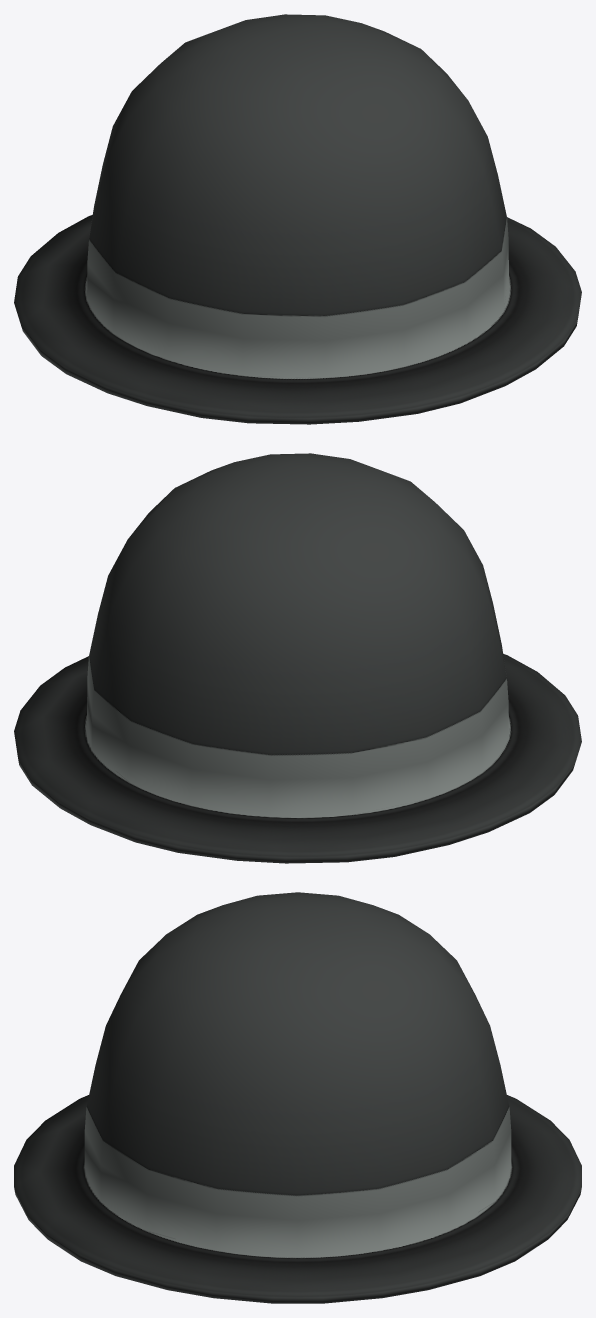
File: Bombin.fbx
The picture shows the model from 3 angles, top to bottom: view 1: azimuth 30°, elevation 25°; view 2: azimuth 150°, elevation 25°; view 3: azimuth 270°, elevation 25°; orthographic projection.
Visible parts, largest first — view 1: Bombin; view 2: Bombin; view 3: Bombin.
Part boxes in pixels (x1=…): Bombin: x1=14, y1=14, x2=581, y2=424; Bombin: x1=14, y1=453, x2=581, y2=863; Bombin: x1=14, y1=892, x2=581, y2=1303.
Size of the model in its own units: 36.92 by 19.14 by 36.92.
